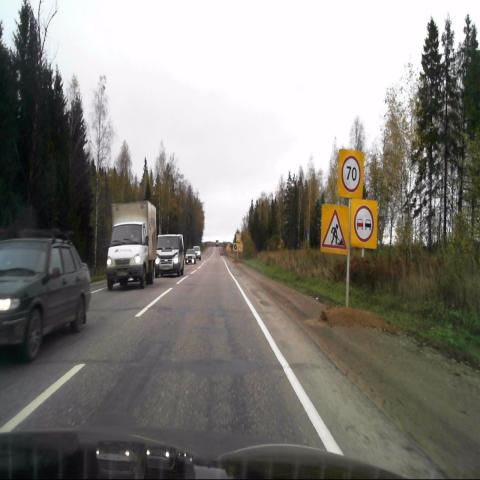1_25: (322, 205, 348, 254)
3_20: (351, 200, 377, 250)
